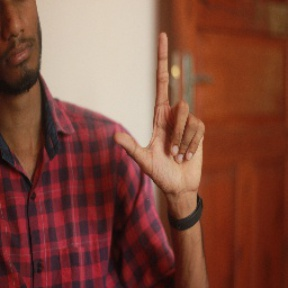L: (112, 30, 209, 187)
